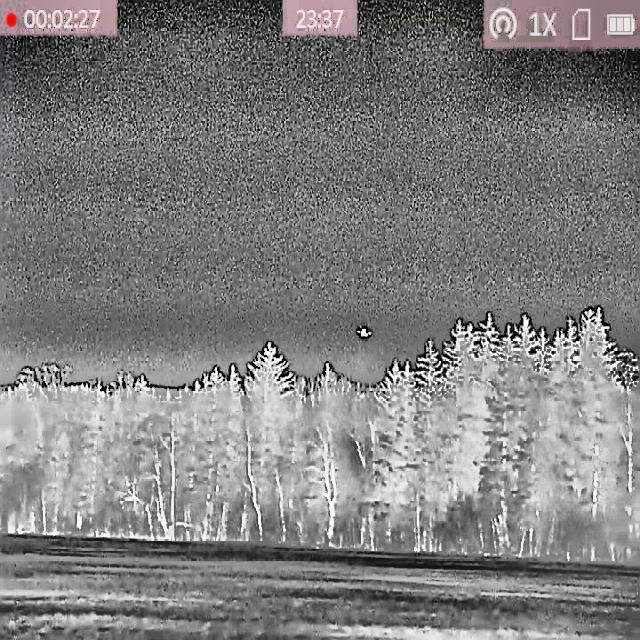drone: (356, 325, 372, 339)
